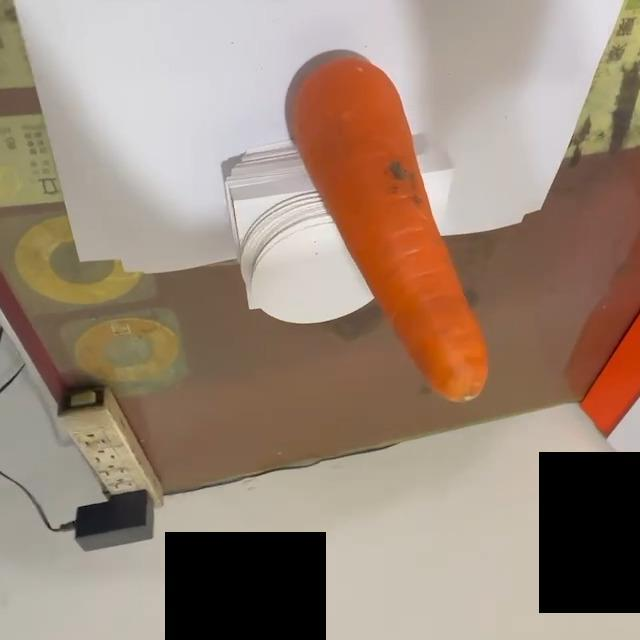carrot: (285, 57, 495, 407)
